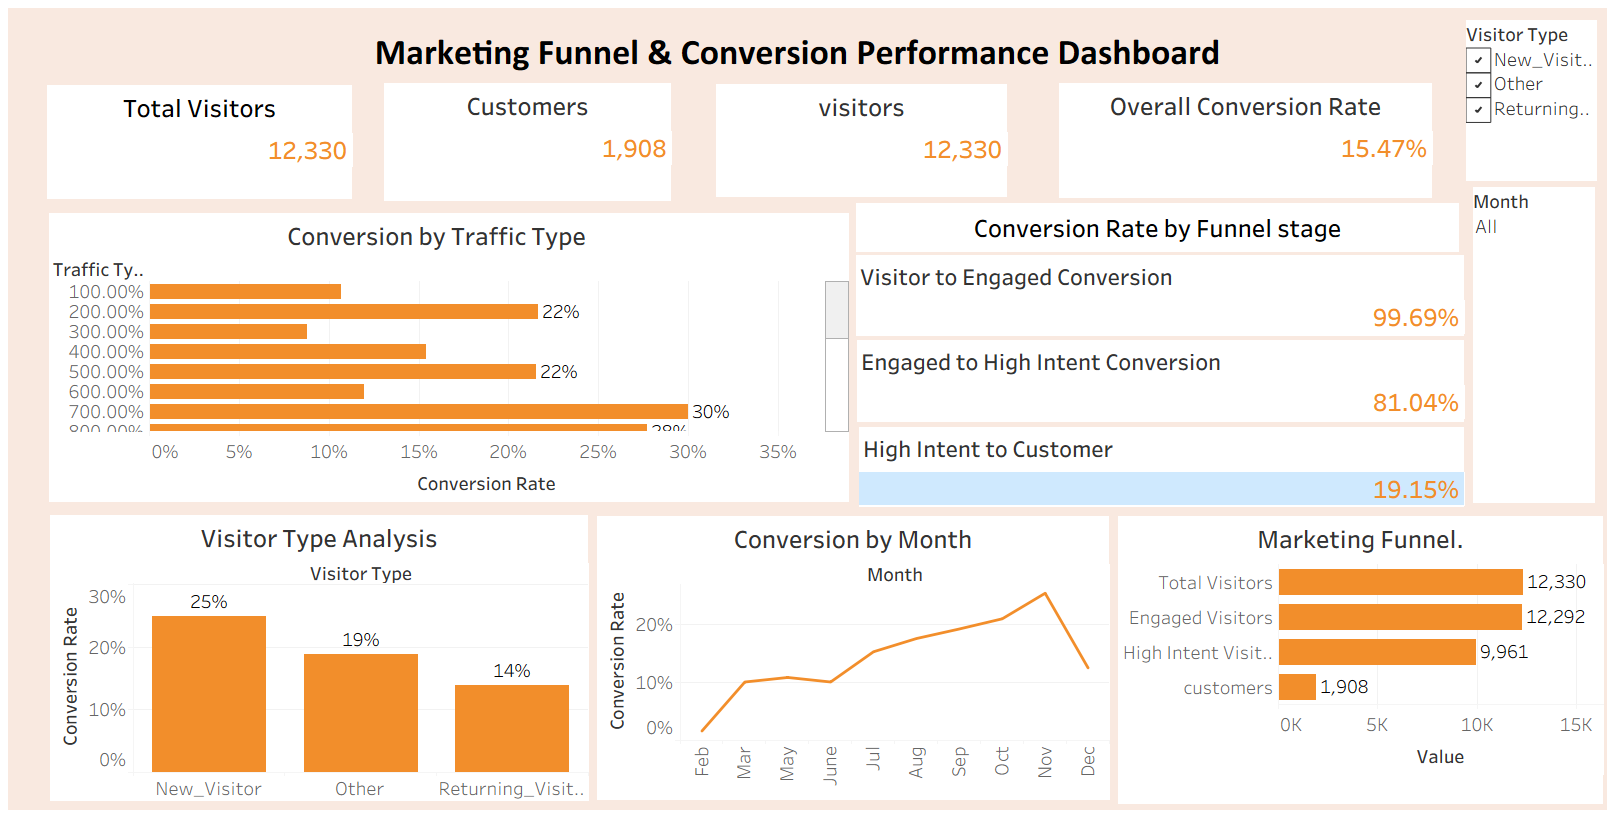

The page's visual inventory and layout, read from the dashboard file:
{"tool":"tableau","page":{"name":"Dashboard 1","canvas":[1000,1000],"units":"permille","ordinal":0},"visuals":[{"type":"text","box":[16.1,23.2,955.4,80.7]},{"type":"filter","title":"Visitor Type Analysis","param":"[federated.1j7v7ar035wm9i1elnjde164ubdj].[none:VisitorType:nk]","box":[907.7,24.4,81.1,196.8]},{"type":"worksheet","title":"Customers","mark":"Automatic","box":[237.8,101.5,177.7,144.2]},{"type":"worksheet","title":"Overall Conversion Rate","mark":"Automatic","box":[655.7,101.5,231,140.6]},{"type":"worksheet","title":"visitors","mark":"Automatic","box":[443.3,102.7,180.2,138.1]},{"type":"worksheet","title":"Total Visitors","mark":"Automatic","box":[29.1,103.9,188.8,139.4]},{"type":"filter","title":"Conversion by Month","param":"[federated.1j7v7ar035wm9i1elnjde164ubdj].[none:Month:nk]","box":[912.1,228.6,75.5,386.3]},{"type":"text","box":[530,248.2,373.4,59.9]},{"type":"worksheet","title":"Conversion by Traffic Type","mark":"Automatic","rows":["TrafficType"],"cols":["Calculation_0602000849027081"],"box":[30.3,260.4,495.4,353.3]},{"type":"worksheet","title":"Visitor to Engaged Conversion","mark":"Automatic","box":[530,311.7,376.5,99]},{"type":"worksheet","title":"Engaged to High Intent Conversion","mark":"Automatic","box":[530.6,415.7,375.9,100.2]},{"type":"worksheet","title":"High Intent to Customer","mark":"Automatic","box":[531.9,522,374.6,97.8]},{"type":"worksheet","title":"Visitor Type Analysis","mark":"Bar","rows":["Calculation_0602000849027081"],"cols":["VisitorType"],"box":[31,629.6,333.1,349.6]},{"type":"worksheet","title":"Conversion by Month","mark":"Line","rows":["Calculation_0602000849027081"],"cols":["Month"],"box":[369.7,630.8,317,347.2]},{"type":"worksheet","title":"Marketing Funnel.","mark":"Bar","box":[692.3,630.8,300.3,352.1]}]}

Visuals, with their boxes on the dashboard's canvas, which has no fixed pixel size, in thousandths of its width and height (x1, y1, x2, y2). These are canvas units, not pixel positions in the 1615x818 screenshot, which may show the page scaled, cropped or inside an application window:
text: pyautogui.locateOnScreen(16, 23, 972, 104)
"Visitor Type Analysis" filter: pyautogui.locateOnScreen(908, 24, 989, 221)
"Customers" worksheet: pyautogui.locateOnScreen(238, 102, 416, 246)
"Overall Conversion Rate" worksheet: pyautogui.locateOnScreen(656, 102, 887, 242)
"visitors" worksheet: pyautogui.locateOnScreen(443, 103, 624, 241)
"Total Visitors" worksheet: pyautogui.locateOnScreen(29, 104, 218, 243)
"Conversion by Month" filter: pyautogui.locateOnScreen(912, 229, 988, 615)
text: pyautogui.locateOnScreen(530, 248, 903, 308)
"Conversion by Traffic Type" worksheet: pyautogui.locateOnScreen(30, 260, 526, 614)
"Visitor to Engaged Conversion" worksheet: pyautogui.locateOnScreen(530, 312, 906, 411)
"Engaged to High Intent Conversion" worksheet: pyautogui.locateOnScreen(531, 416, 906, 516)
"High Intent to Customer" worksheet: pyautogui.locateOnScreen(532, 522, 906, 620)
"Visitor Type Analysis" worksheet (Bar marks): pyautogui.locateOnScreen(31, 630, 364, 979)
"Conversion by Month" worksheet (Line marks): pyautogui.locateOnScreen(370, 631, 687, 978)
"Marketing Funnel." worksheet (Bar marks): pyautogui.locateOnScreen(692, 631, 993, 983)
